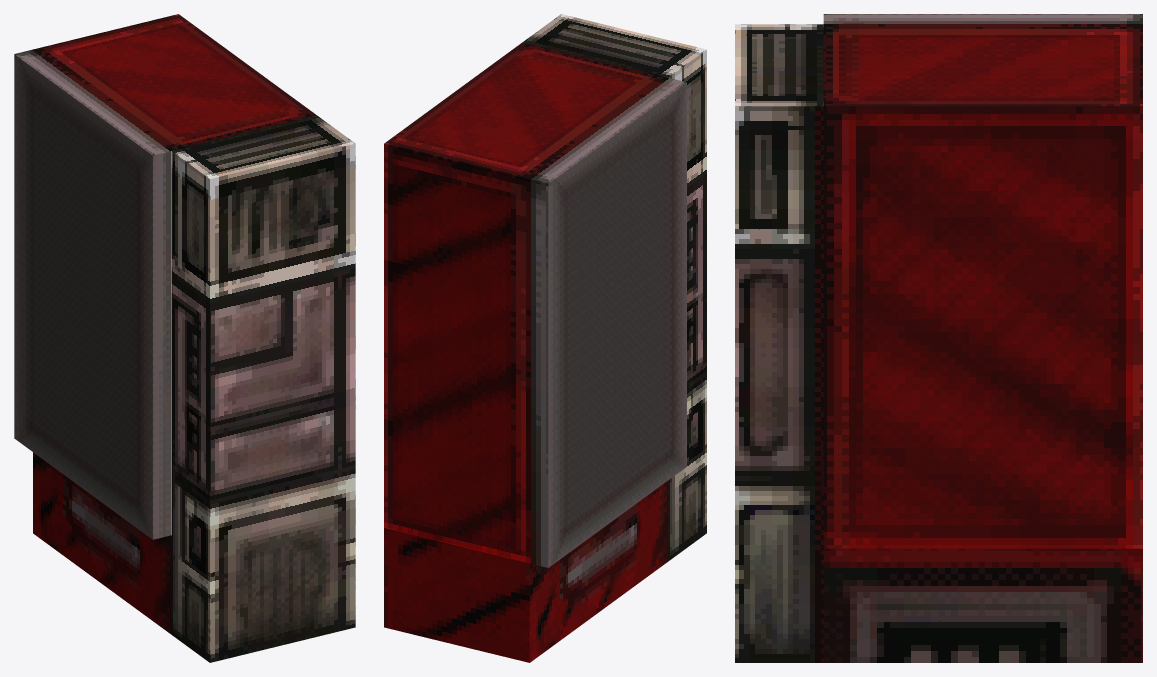
Rendered from prop_vending_machine.glb.
3 views of the same model, side by side, from view 1: azimuth 30°, elevation 25°; view 2: azimuth 150°, elevation 25°; view 3: azimuth 270°, elevation 25° (orthographic). The views are drawn at different scales.
Visible parts, largest first — view 1: Vendingmachine_large; view 2: Vendingmachine_large; view 3: Vendingmachine_large.
Part boxes in pixels (x1,y1,x2,y2): Vendingmachine_large: (14, 14, 355, 662); Vendingmachine_large: (384, 14, 706, 662); Vendingmachine_large: (735, 14, 1142, 662).
Bounding box in the file's own units: 0.8818 × 2.48 × 1.65.
Materials: 2 (2 with a texture image).
